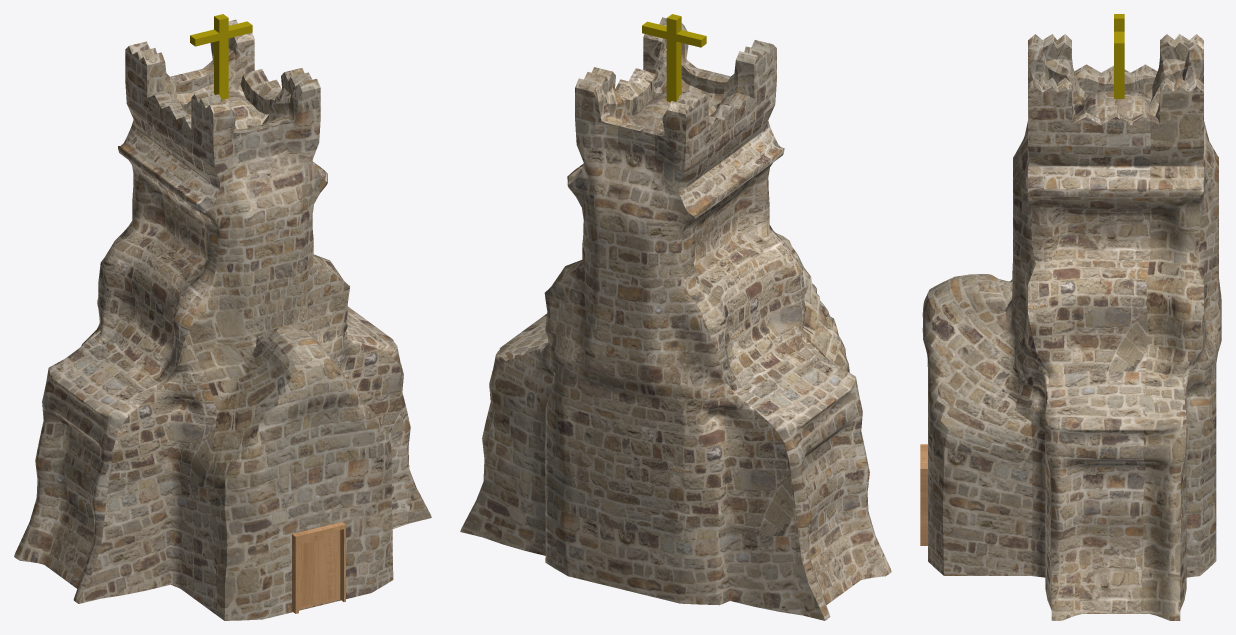
The model's file is church.fbx.
The picture shows the model from 3 angles, left to right: view 1: azimuth 30°, elevation 25°; view 2: azimuth 150°, elevation 25°; view 3: azimuth 270°, elevation 25°; orthographic projection. The views are drawn at different scales.
Visible parts, largest first — view 1: polySurface4, pCube1; view 2: polySurface4, pCube1; view 3: polySurface4, pCube1.
Part boxes in pixels (x1,y1,x2,y2): polySurface4: [14, 19, 431, 620]; pCube1: [190, 14, 252, 99]; polySurface4: [460, 17, 891, 620]; pCube1: [642, 14, 706, 101]; polySurface4: [920, 34, 1221, 620]; pCube1: [1114, 14, 1124, 98].
Size of the model in its own units: 7.94 by 11.14 by 5.87.
Materials: 3 (2 with a texture image).
